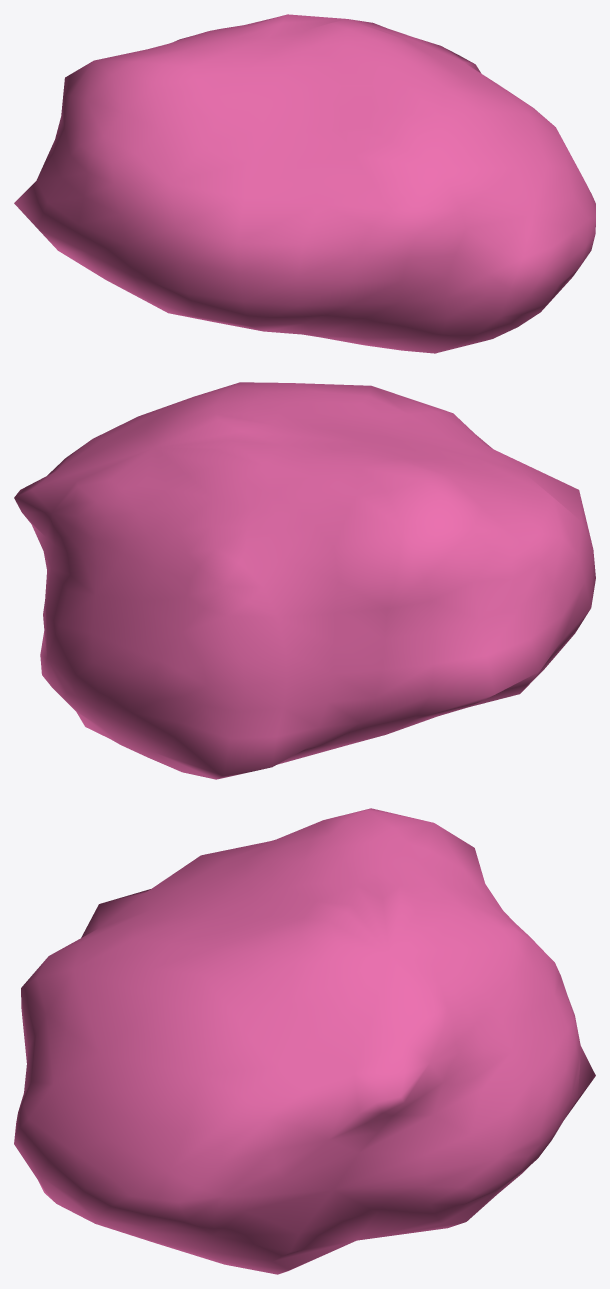
Rendered from gum.glb.
3 renders of one model, top to bottom at view 1: azimuth 30°, elevation 25°; view 2: azimuth 150°, elevation 25°; view 3: azimuth 270°, elevation 25°, orthographic. The views are drawn at different scales.
Parts seen in each view (by area): view 1: Sphere; view 2: Sphere; view 3: Sphere.
Part boxes in pixels (left/top/right/bottom): Sphere: left=14, top=14, right=595, bottom=353; Sphere: left=14, top=382, right=595, bottom=779; Sphere: left=14, top=808, right=595, bottom=1274.
Size of the model in its own units: 1.4 by 0.7803 by 1.31.
